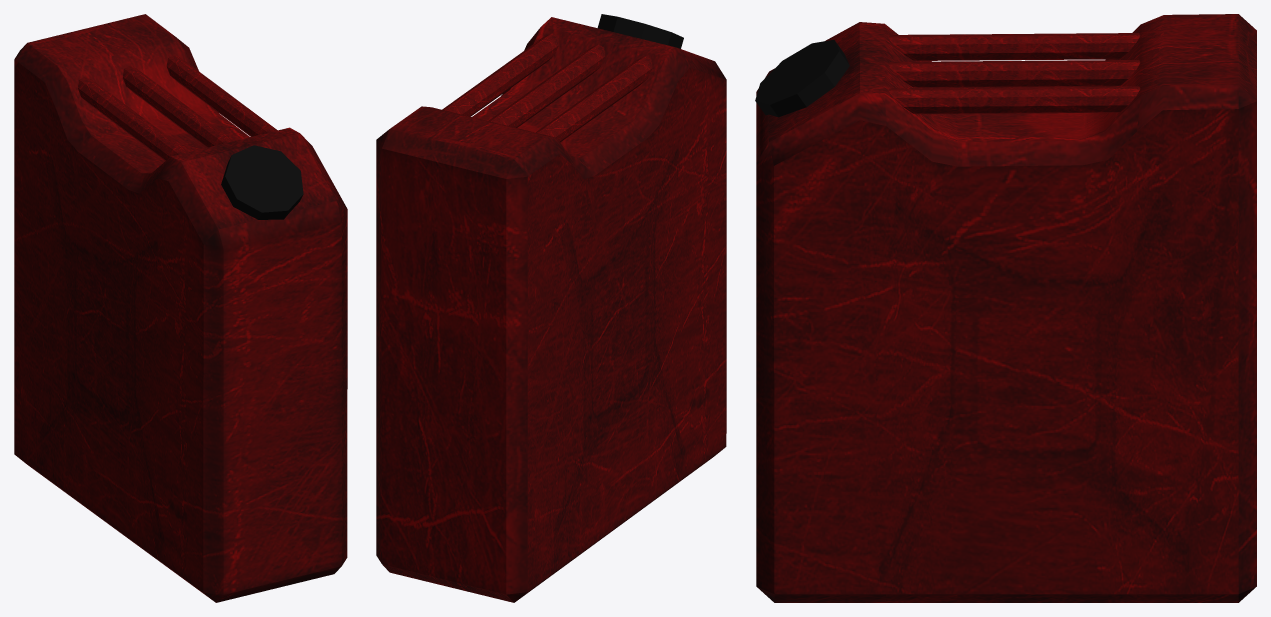
Rendered from Gas_Can.fbx.
3 views of the same model, side by side, from view 1: azimuth 30°, elevation 25°; view 2: azimuth 150°, elevation 25°; view 3: azimuth 270°, elevation 25° (orthographic). The views are drawn at different scales.
Visible parts, largest first — view 1: pCylinder5; view 2: pCylinder5; view 3: pCylinder5.
Boxes of the visible parts, x1,y1,x2,y2 form: pCylinder5: (14,14,347,602); pCylinder5: (376,14,726,602); pCylinder5: (755,14,1256,602).
Size of the model in its own units: 4.01 by 11.23 by 9.84.
